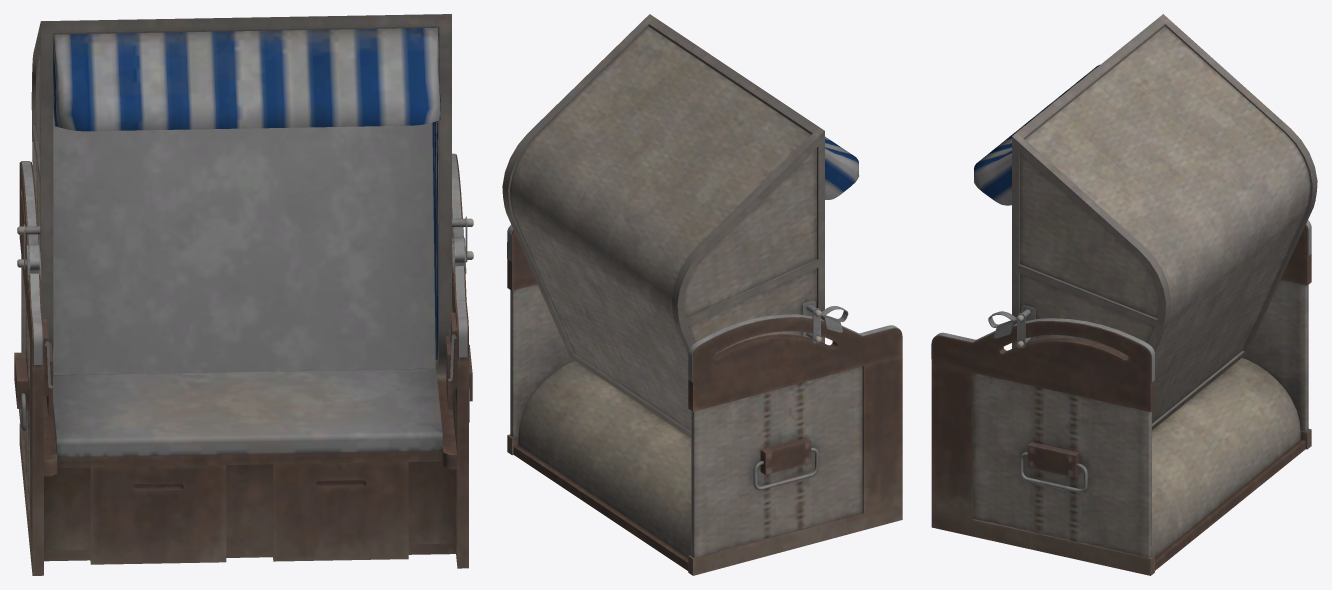
Rendered from ItemSpot.fbx.
The picture shows the model from 3 angles, left to right: view 1: azimuth 30°, elevation 25°; view 2: azimuth 150°, elevation 25°; view 3: azimuth 270°, elevation 25°; orthographic projection. The views are drawn at different scales.
Visible parts, largest first — view 1: ItemBox_BeachChair; view 2: ItemBox_BeachChair; view 3: ItemBox_BeachChair.
Boxes of the visible parts, x1=… form: ItemBox_BeachChair: x1=14, y1=14, x2=473, y2=575; ItemBox_BeachChair: x1=502, y1=14, x2=902, y2=575; ItemBox_BeachChair: x1=931, y1=14, x2=1317, y2=575.
Size of the model in its own units: 2.13 by 2.25 by 1.95.
1 material, 1 textured.
